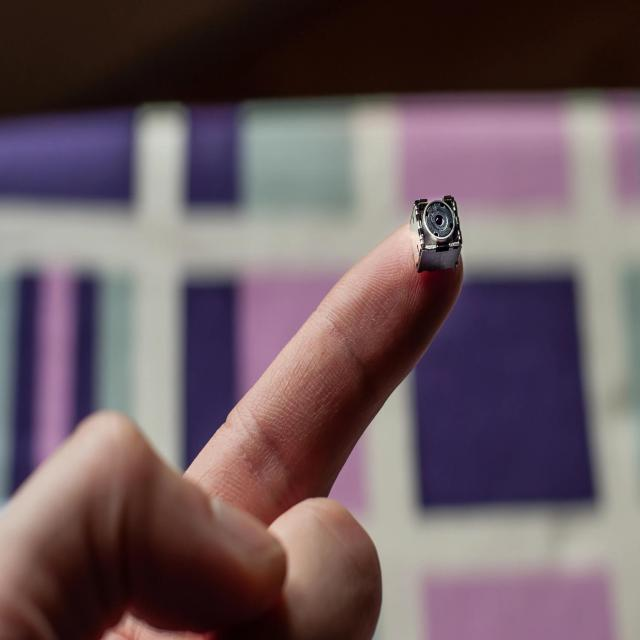hidden camera: (423, 196, 458, 243)
